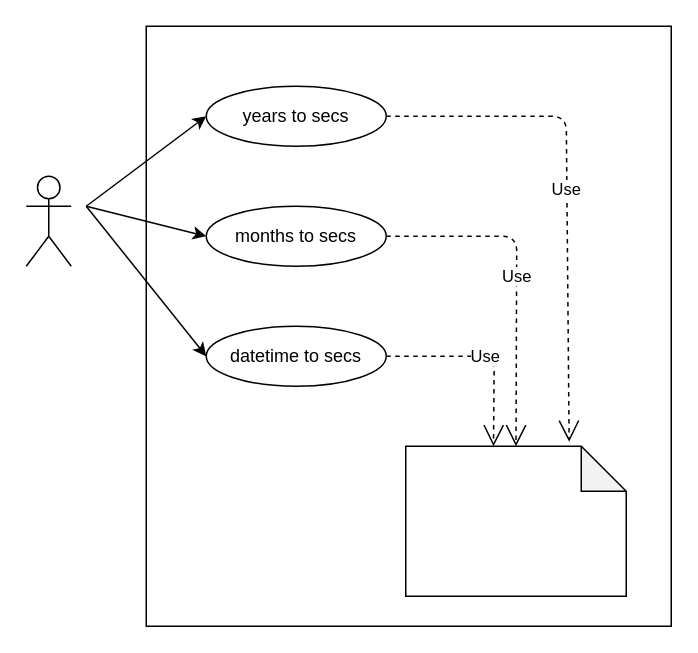
This 698x653 diagram has some shape labels left out. Here are the shapes that lost their labels. From the top down, the centre of each, then its label:
At (x=48, y=220): "User".
At (x=515, y=520): "myArrayList myCircularList myLinkedList".
